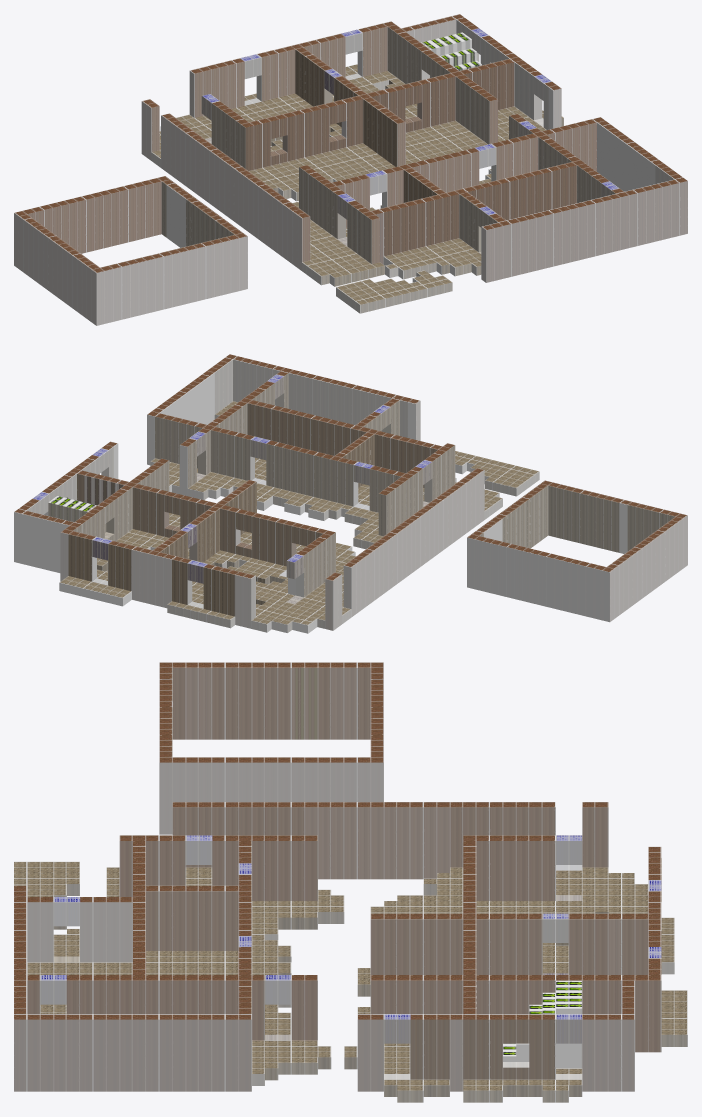
3 renders of one model, top to bottom at view 1: azimuth 30°, elevation 25°; view 2: azimuth 150°, elevation 25°; view 3: azimuth 270°, elevation 25°, orthographic. The views are drawn at different scales.
Visible parts, largest first — view 1: Plano80x80P3; view 2: Plano80x80P3; view 3: Plano80x80P3.
Part boxes in pixels (bbox=[...]): Plano80x80P3: bbox=[14, 14, 687, 325]; Plano80x80P3: bbox=[14, 354, 687, 633]; Plano80x80P3: bbox=[14, 662, 687, 1102].
Size of the model in its own units: 66 by 6 by 51.
Materials: 1 (1 with a texture image).
